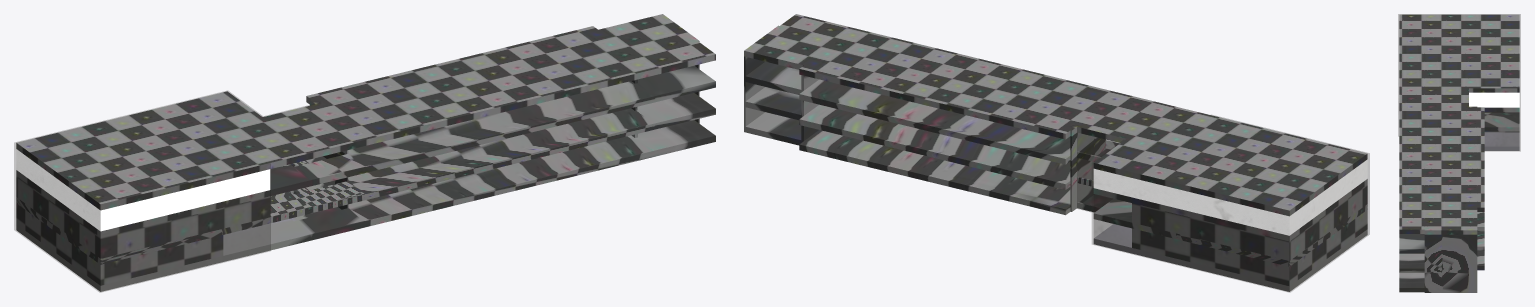
File: BigLab-transformed.glb
3 views of the same model, side by side, from view 1: azimuth 30°, elevation 25°; view 2: azimuth 150°, elevation 25°; view 3: azimuth 270°, elevation 25° (orthographic). The views are drawn at different scales.
Parts seen in each view (by area): view 1: LeftBuilding; view 2: LeftBuilding; view 3: LeftBuilding.
Boxes of the visible parts, box(x1,y1,x2,y2) form: LeftBuilding: box(14, 14, 715, 292); LeftBuilding: box(744, 14, 1369, 292); LeftBuilding: box(1398, 14, 1520, 292).
Bounding box in the file's own units: 105 × 14.2 × 25.2.
Materials: 3 (3 with a texture image).
